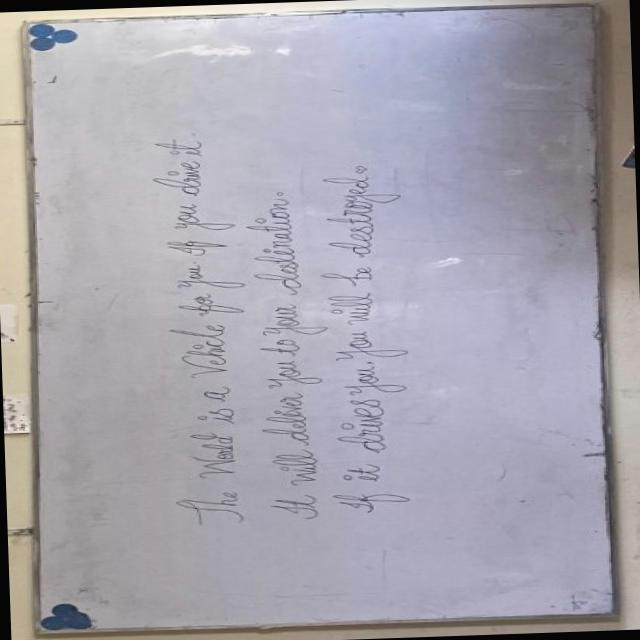White-board: (23, 3, 618, 629)
